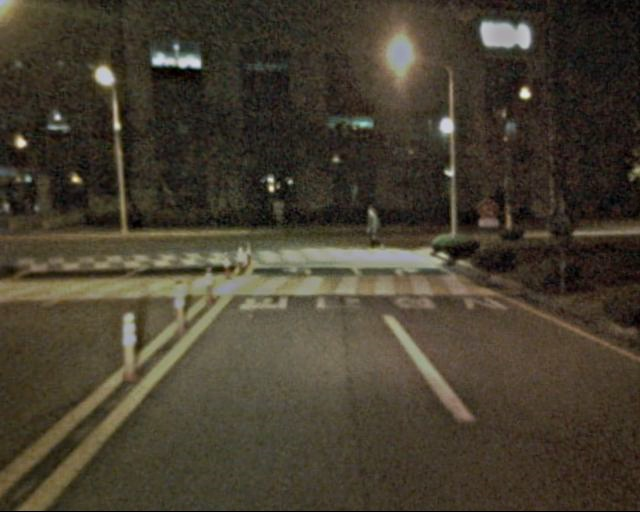person: (362, 206, 385, 261)
